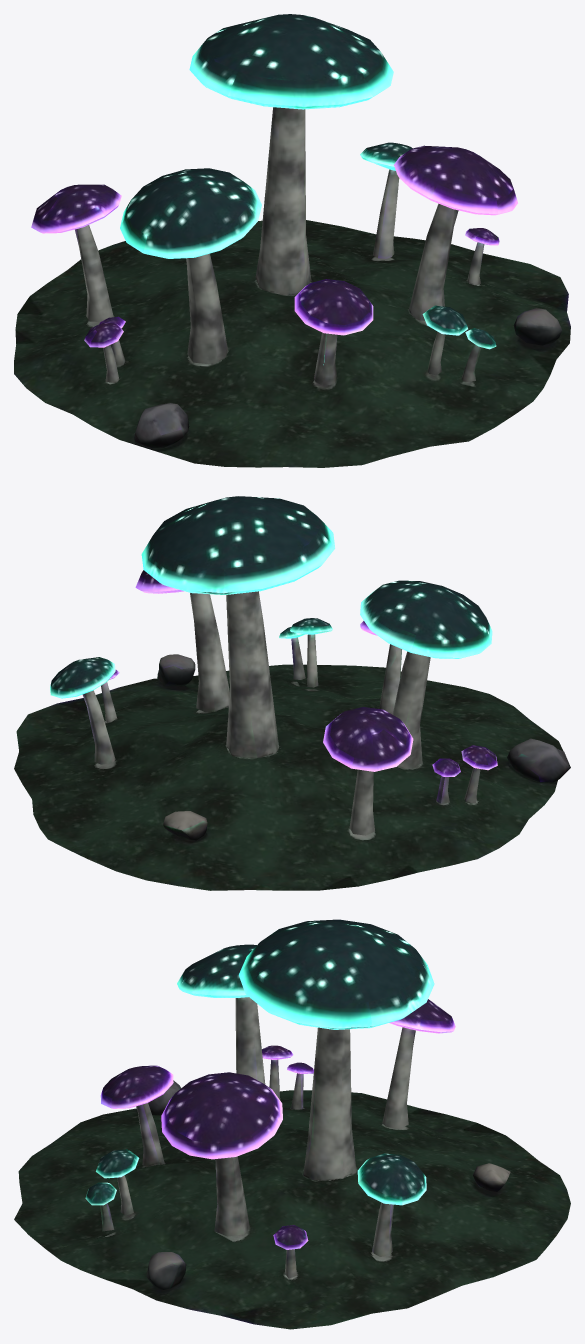
Rendered from cavern_mushrooms.glb.
The picture shows the model from 3 angles, top to bottom: view 1: azimuth 30°, elevation 25°; view 2: azimuth 150°, elevation 25°; view 3: azimuth 270°, elevation 25°; orthographic projection. The views are drawn at different scales.
Parts seen in each view (by area): view 1: cavern_mushrooms; view 2: cavern_mushrooms; view 3: cavern_mushrooms.
Part boxes in pixels (x1,y1,x2,y2): cavern_mushrooms: [14, 14, 570, 467]; cavern_mushrooms: [14, 496, 570, 890]; cavern_mushrooms: [14, 919, 570, 1329].
Bounding box in the file's own units: 1.73 × 0.9599 × 1.7.
Materials: 1 (1 with a texture image).
